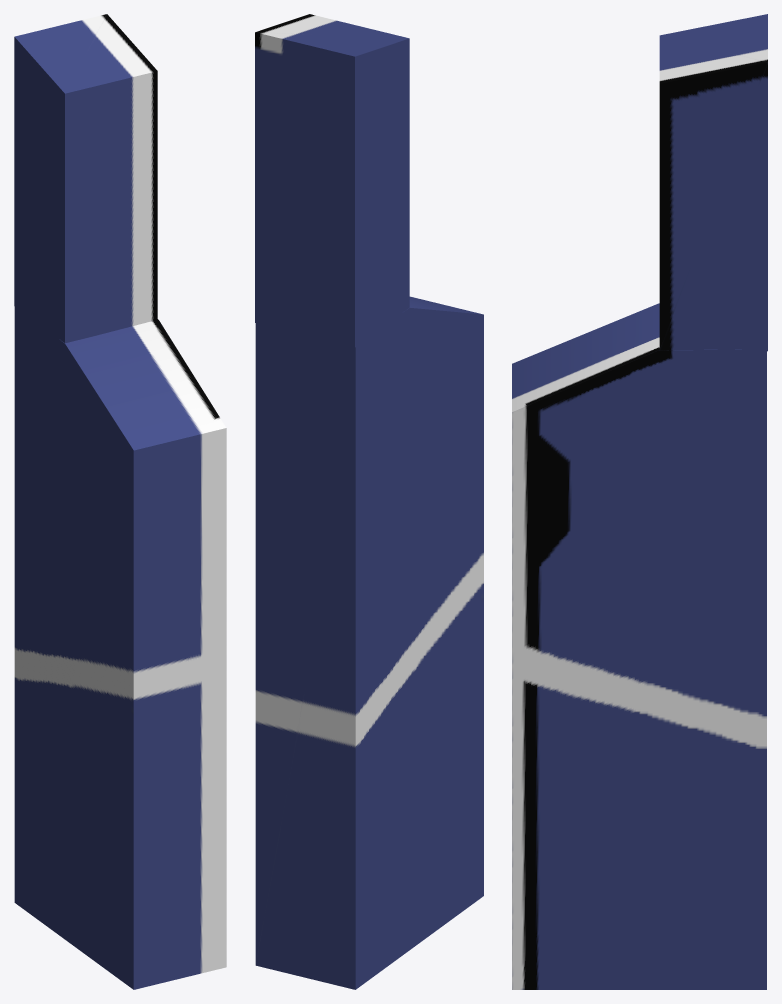
The model's file is buil_3.fbx.
3 views of the same model, side by side, from view 1: azimuth 30°, elevation 25°; view 2: azimuth 150°, elevation 25°; view 3: azimuth 270°, elevation 25° (orthographic). The views are drawn at different scales.
Parts seen in each view (by area): view 1: node_id5; view 2: node_id5; view 3: node_id5.
Part boxes in pixels (x1,y1,x2,y2): node_id5: (14,14,226,989); node_id5: (255,14,483,989); node_id5: (512,14,767,989).
Size of the model in its own units: 0.0578 by 0.512 by 0.128.
Materials: 1 (1 with a texture image).
